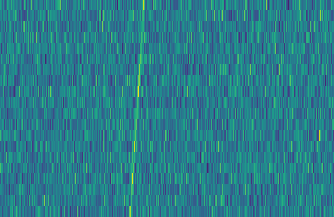signal: (124, 0, 147, 217)
